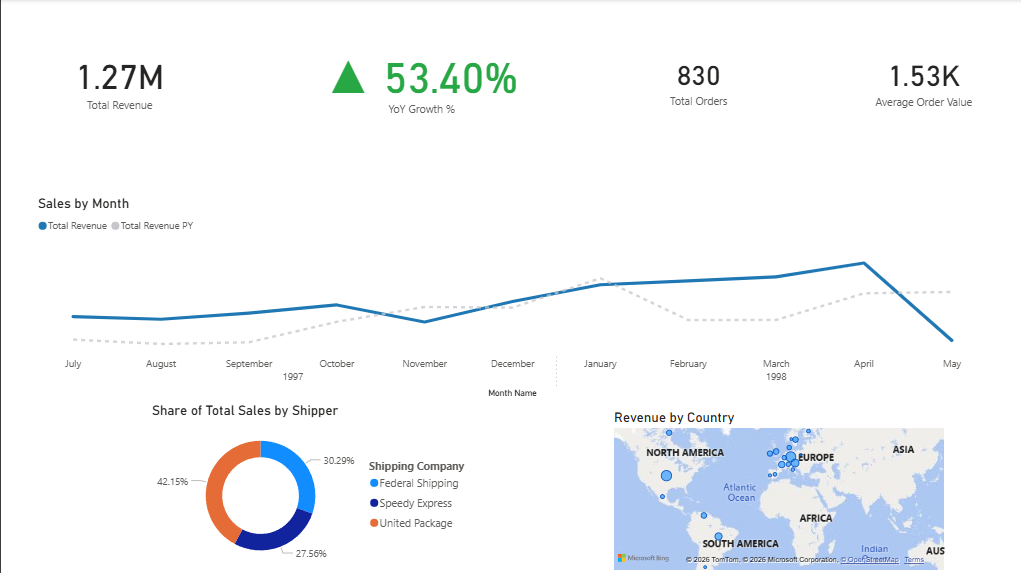

What the dashboard file says about the page in this screenshot:
{"tool":"powerbi","page":{"name":"Executive Oveview","canvas":[1280,720],"ordinal":0},"visuals":[{"type":"card","fields":{"Values":["_Measures.Total Revenue"]},"box":[9.8,0,276.9,201.7],"z":0},{"type":"card","fields":{"Values":["_Measures.Total Orders"]},"box":[746.8,0,251.9,201.7],"z":2000},{"type":"card","fields":{"Values":["_Measures.Average Order Value"]},"box":[1030.3,0,249.7,201.7],"z":3000},{"type":"lineChart","title":"Sales by Month","fields":{"Category":["Calendar.Year","Calendar.Month Name"],"Y":["_Measures.Total Revenue"],"Y2":["_Measures.Revenue Previous Year"]},"box":[41.3,245.2,1197.4,259],"z":4000},{"type":"donutChart","title":"Share of Total Sales by Shipper","fields":{"Y":["_Measures.Total Revenue"],"Series":["public shippers.Company Name"]},"box":[183.9,504.2,416.7,215.2],"z":6000},{"type":"card","fields":{"Values":["_Measures.YoY Display"]},"box":[369.1,0,314.1,201.4],"z":6500},{"type":"map","title":"Revenue by Country","fields":{"Category":["public v_customer_geo.Country"],"Size":["_Measures.Total Revenue"]},"box":[762,513,422.9,206.5],"z":6501}]}

Visuals, with their boxes in screenshot pixels (x1, y1, x2, y2), scaled from the page's 1280x720 canvas onto the 1021x573 screenshot:
card - _Measures.Total Revenue: box=[8, 0, 229, 161]
card - _Measures.Total Orders: box=[596, 0, 797, 161]
card - _Measures.Average Order Value: box=[822, 0, 1020, 161]
"Sales by Month" lineChart: box=[33, 195, 988, 401]
"Share of Total Sales by Shipper" donutChart: box=[147, 401, 479, 572]
card - _Measures.YoY Display: box=[294, 0, 545, 160]
"Revenue by Country" map: box=[608, 408, 945, 572]
